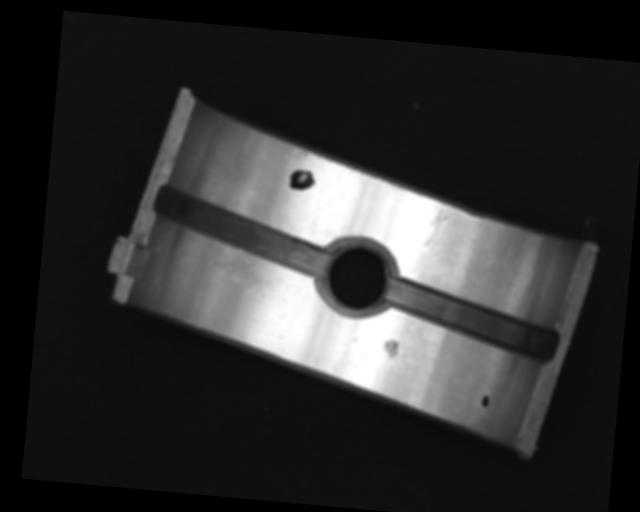blot: (287, 168, 316, 192), (479, 394, 491, 408)
bruise: (383, 338, 399, 361)
gap: (149, 186, 333, 278), (381, 283, 563, 362)
hole: (314, 236, 397, 321)
nick: (422, 202, 449, 249)
scratch: (184, 243, 266, 297)
